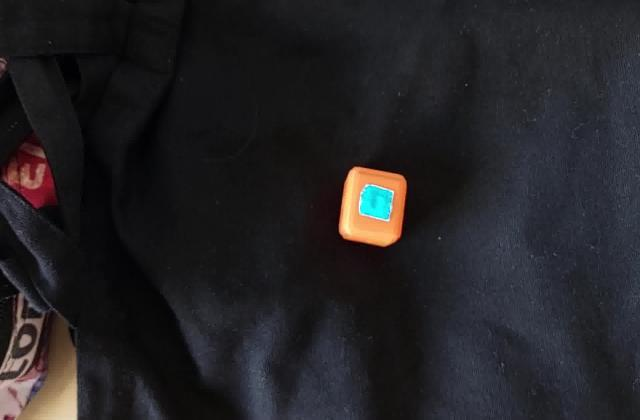blue: (366, 191, 388, 215)
sticker: (336, 160, 407, 250)
